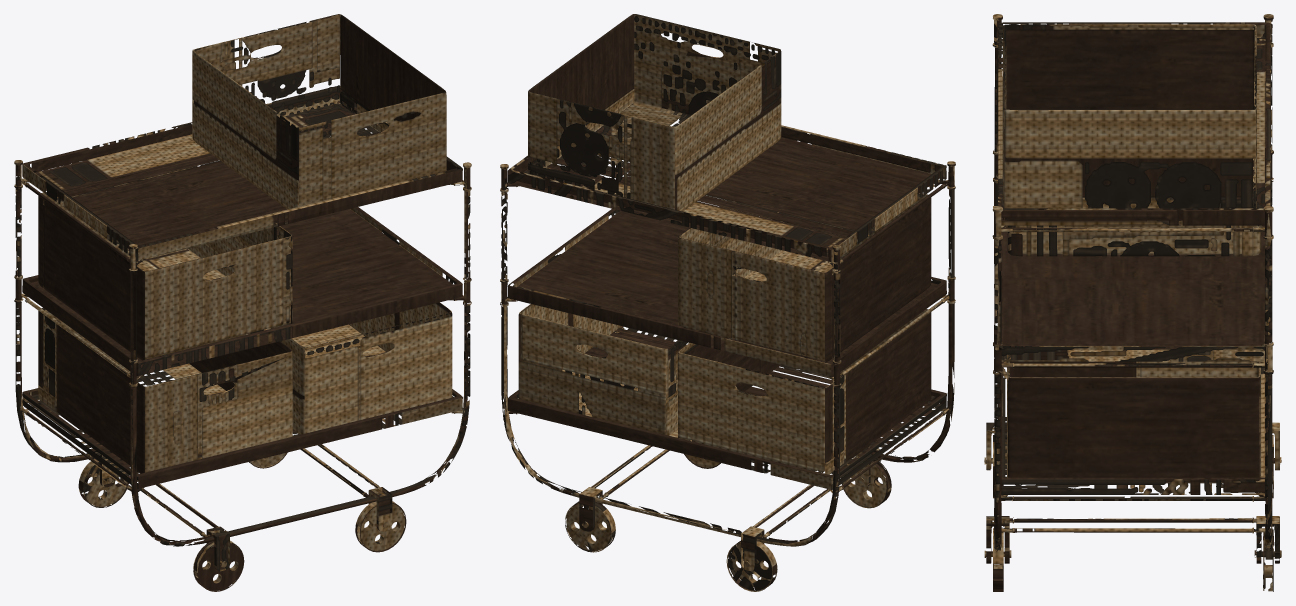
The model's file is raw_model.obj.
3 views of the same model, side by side, from view 1: azimuth 30°, elevation 25°; view 2: azimuth 150°, elevation 25°; view 3: azimuth 270°, elevation 25° (orthographic). The views are drawn at different scales.
Parts seen in each view (by area): view 1: solid_003, solid_002, solid_001; view 2: solid_003, solid_002, solid_001; view 3: solid_003, solid_002, solid_001.
Boxes of the visible parts, left/top/right/bottom form: solid_003: left=38, top=14, right=452, bottom=473; solid_002: left=22, top=86, right=462, bottom=488; solid_001: left=14, top=160, right=471, bottom=591; solid_003: left=518, top=14, right=931, bottom=474; solid_002: left=507, top=98, right=946, bottom=489; solid_001: left=500, top=160, right=955, bottom=591; solid_003: left=1003, top=24, right=1260, bottom=483; solid_002: left=998, top=22, right=1270, bottom=494; solid_001: left=984, top=14, right=1281, bottom=591.
Size of the model in its own units: 0.9071 by 1.12 by 0.5797.
Materials: 1 (1 with a texture image).
